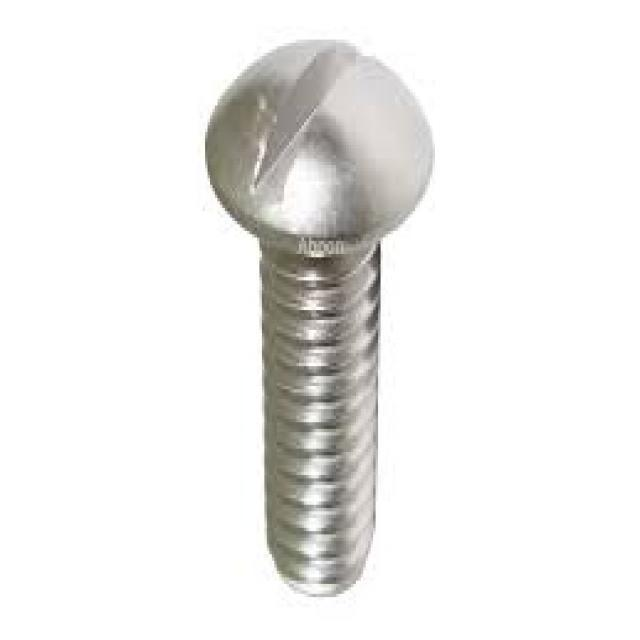Dry Waste: (174, 5, 504, 622)
